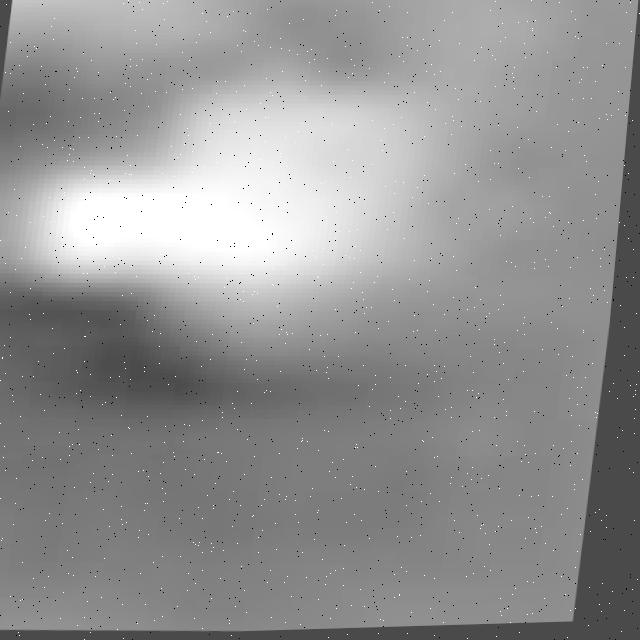person: (1, 57, 584, 384)
